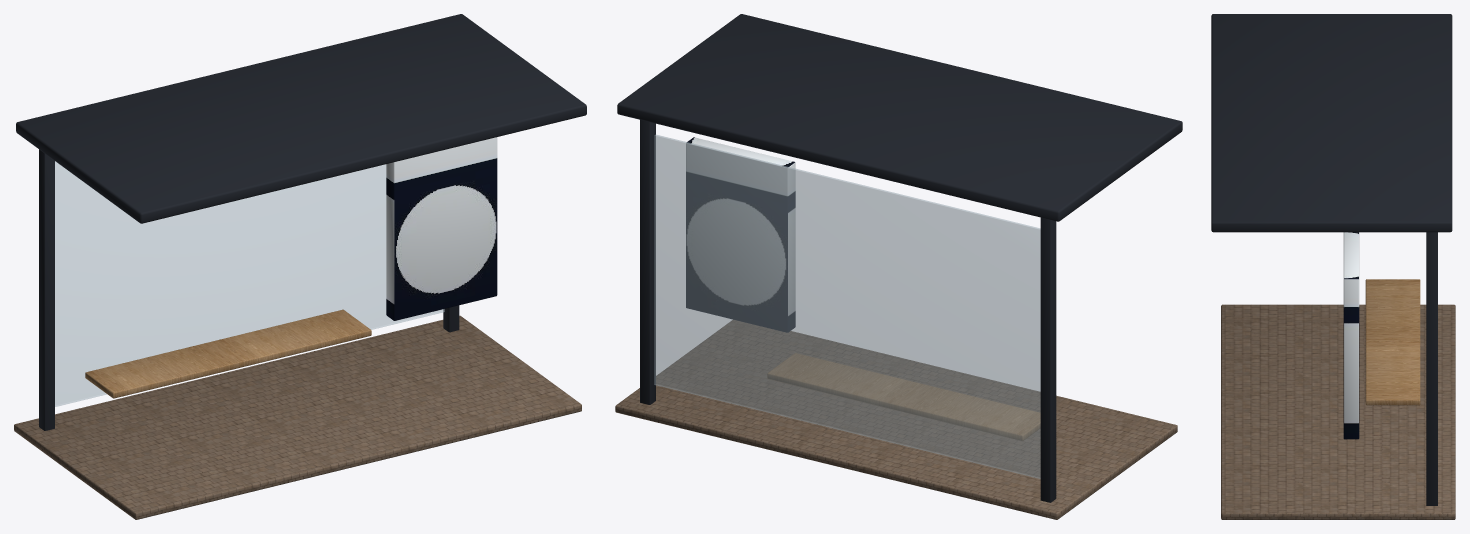
Rendered from prop_bus_shelter_aaa-16ed1e762011.glb.
The picture shows the model from 3 angles, left to right: view 1: azimuth 30°, elevation 25°; view 2: azimuth 150°, elevation 25°; view 3: azimuth 270°, elevation 25°; orthographic projection. The views are drawn at different scales.
Parts seen in each view (by area): view 1: Mesh_Powder_Iron, Platform, Back_Glass, Lightbox_Map, Bench_Seat; view 2: Back_Glass, Mesh_Powder_Iron, Platform, Lightbox_Map, Bench_Seat; view 3: Mesh_Powder_Iron, Platform, Bench_Seat, Lightbox_Map.
Part boxes in pixels (x1,y1,x2,y2): Mesh_Powder_Iron: [16, 14, 586, 430]; Platform: [14, 315, 581, 519]; Back_Glass: [55, 161, 444, 406]; Lightbox_Map: [386, 137, 497, 320]; Bench_Seat: [85, 309, 371, 398]; Back_Glass: [654, 134, 1040, 478]; Mesh_Powder_Iron: [617, 14, 1182, 502]; Platform: [615, 320, 1177, 519]; Lightbox_Map: [686, 137, 795, 332]; Bench_Seat: [767, 353, 1040, 440]; Mesh_Powder_Iron: [1211, 14, 1452, 505]; Platform: [1221, 304, 1455, 519]; Bench_Seat: [1365, 279, 1420, 405]; Lightbox_Map: [1343, 232, 1359, 439].
Size of the model in its own units: 3.8 by 2.53 by 1.88.
Materials: 5 (3 with a texture image).
